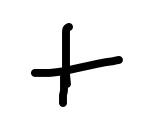plus: (32, 23, 123, 107)
